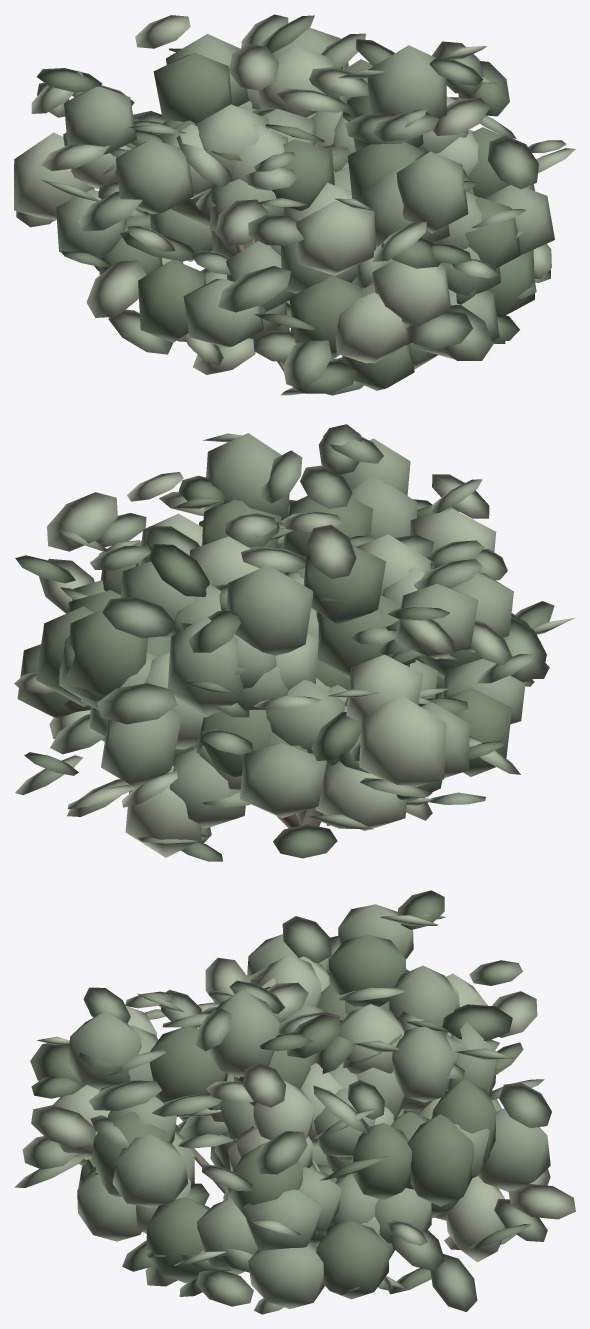
File: SM_MPR3_Bush_0.fbx
The picture shows the model from 3 angles, top to bottom: view 1: azimuth 30°, elevation 25°; view 2: azimuth 150°, elevation 25°; view 3: azimuth 270°, elevation 25°; orthographic projection. The views are drawn at different scales.
Parts seen in each view (by area): view 1: SM_MPR3_Bush_0; view 2: SM_MPR3_Bush_0; view 3: SM_MPR3_Bush_0.
Part boxes in pixels (x1,y1,x2,y2): SM_MPR3_Bush_0: (14,14,575,395); SM_MPR3_Bush_0: (14,424,575,861); SM_MPR3_Bush_0: (14,890,575,1314).
Size of the model in its own units: 205 by 206 by 135.
